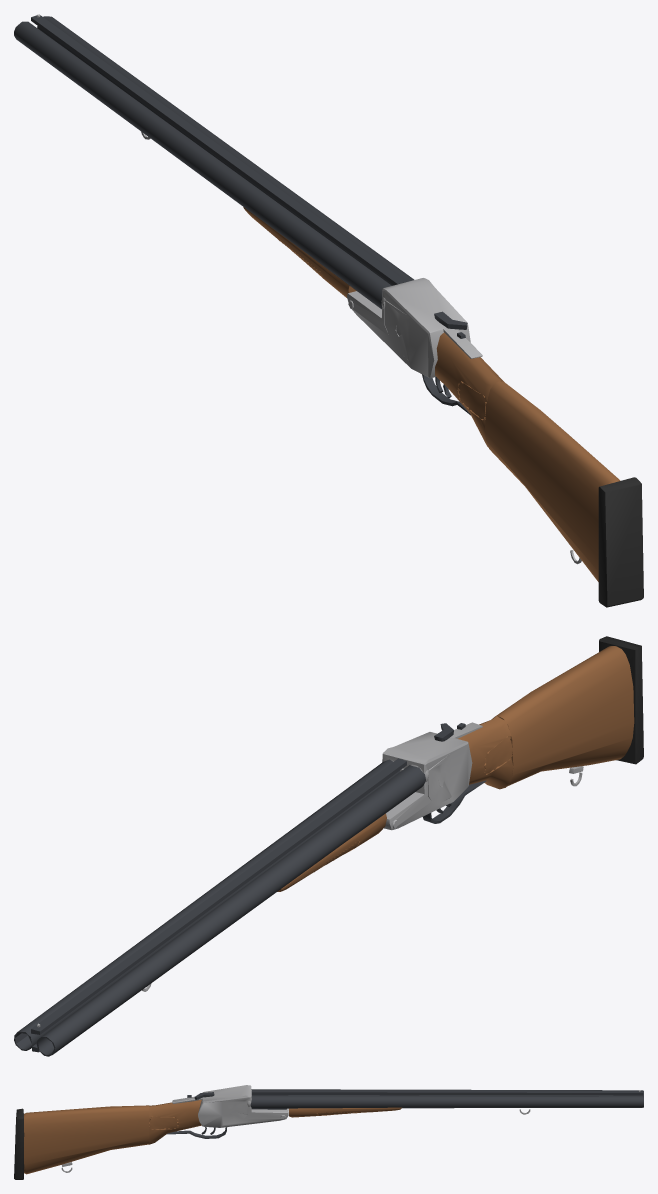
Rendered from toz_double_lod1.glb.
The picture shows the model from 3 angles, top to bottom: view 1: azimuth 30°, elevation 25°; view 2: azimuth 150°, elevation 25°; view 3: azimuth 270°, elevation 25°; orthographic projection. The views are drawn at different scales.
Parts seen in each view (by area): view 1: Blued, Wood, Steel, Black; view 2: Blued, Wood, Steel, Black; view 3: Wood, Blued, Steel, Black.
Part boxes in pixels (x1,y1,x2,y2): Blued: (14, 15, 470, 415); Wood: (243, 207, 620, 581); Steel: (37, 14, 581, 564); Black: (598, 477, 643, 607); Blued: (14, 723, 486, 1056); Wood: (277, 646, 634, 891); Steel: (37, 722, 583, 1027); Black: (599, 636, 643, 764); Wood: (24, 1100, 401, 1174); Blued: (167, 1089, 643, 1138); Steel: (61, 1085, 640, 1172); Black: (14, 1108, 24, 1179).
Size of the model in its own units: 0.053 by 0.1736 by 1.16.
